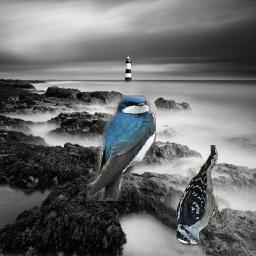Swallow: (88, 95, 157, 201)
Woodpecker: (169, 145, 227, 247)
